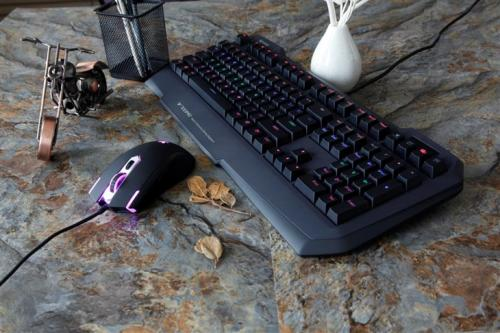keyboard: (147, 33, 462, 257)
mouse: (88, 139, 199, 216)
